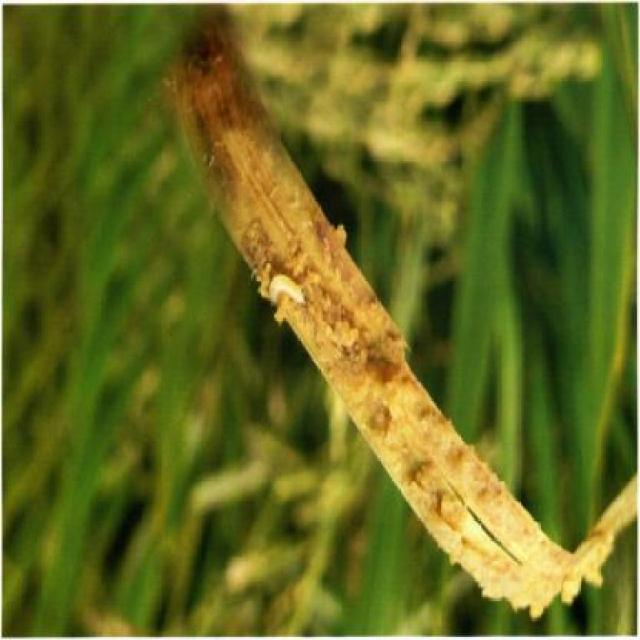whorl-maggot: (265, 262, 309, 326)
